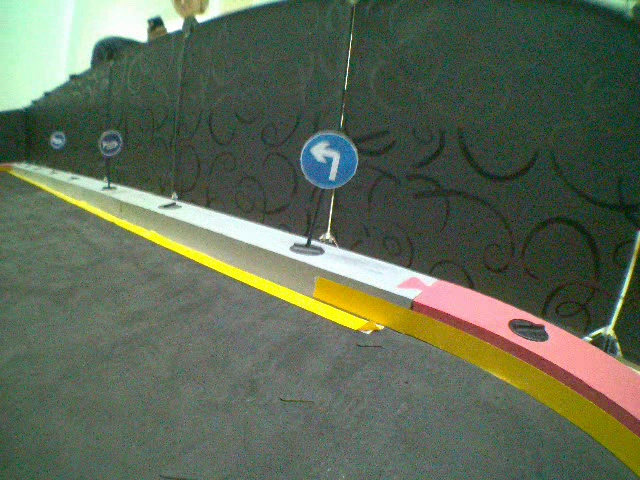horn: (98, 128, 123, 156), (51, 130, 65, 148)
turn: (300, 130, 359, 189)
